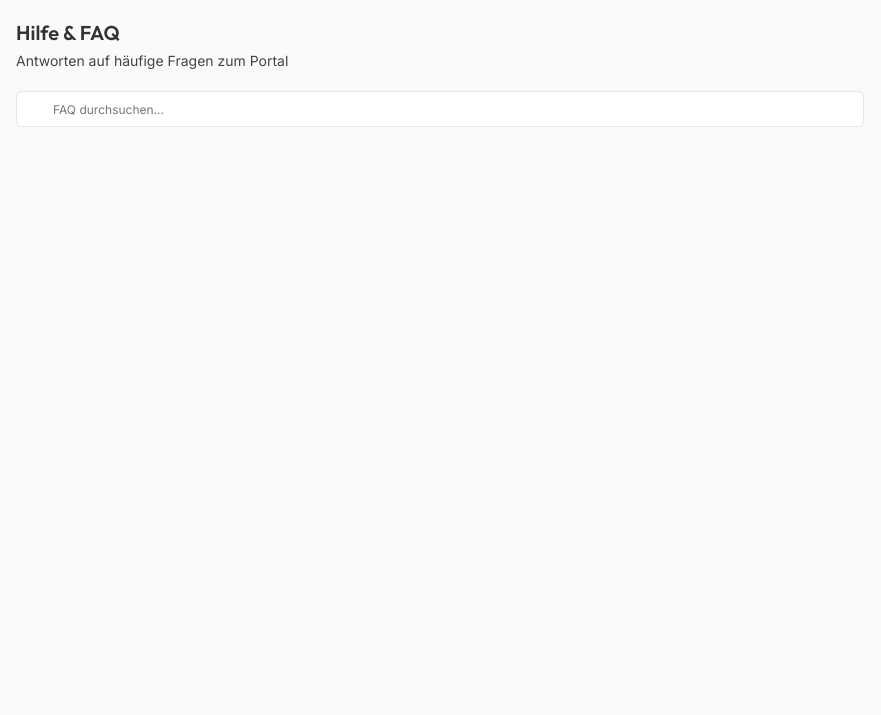
Scenario: HilfePage › search › restores all 7 sections when clearing the search
The width and height of the screenshot is (881, 715).
Type "Passwort" into the field with placeholder "FAQ durchsuchen..." at (440, 109), box left=16, top=91, right=864, bottom=127
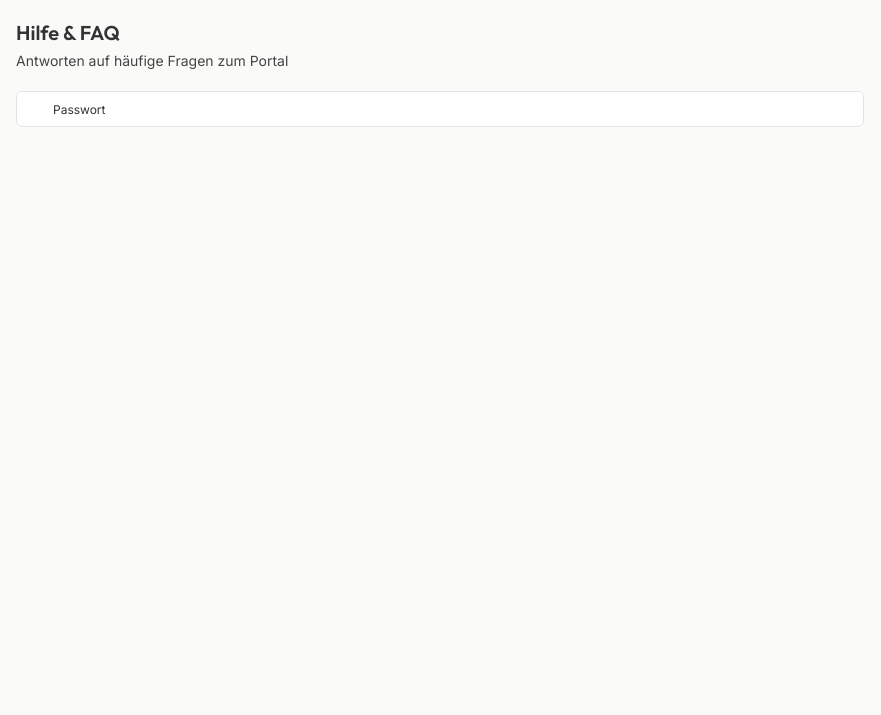
Clear the field with placeholder "FAQ durchsuchen..." at (440, 109), box left=16, top=91, right=864, bottom=127
(page scrolled)
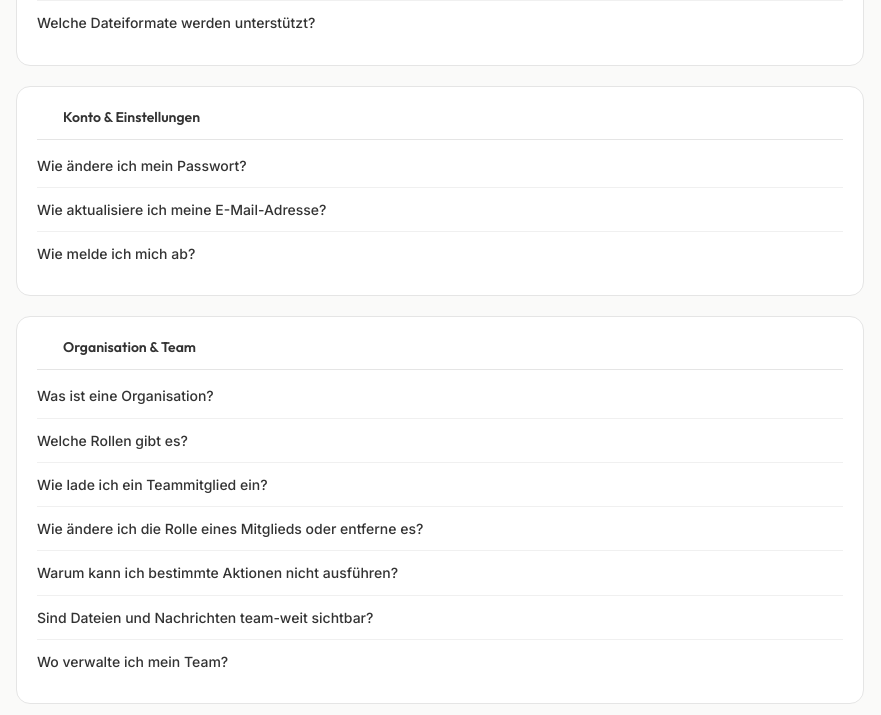
Result: the heading "Konto & Einstellungen" is shown at left=63, top=106, right=200, bottom=126
Result: the heading "Organisation & Team" is shown at left=63, top=337, right=196, bottom=357
